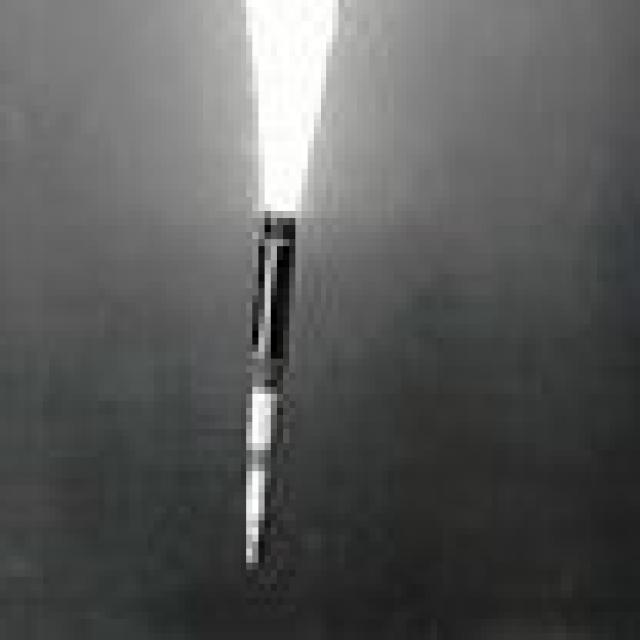missile: (234, 210, 304, 571)
